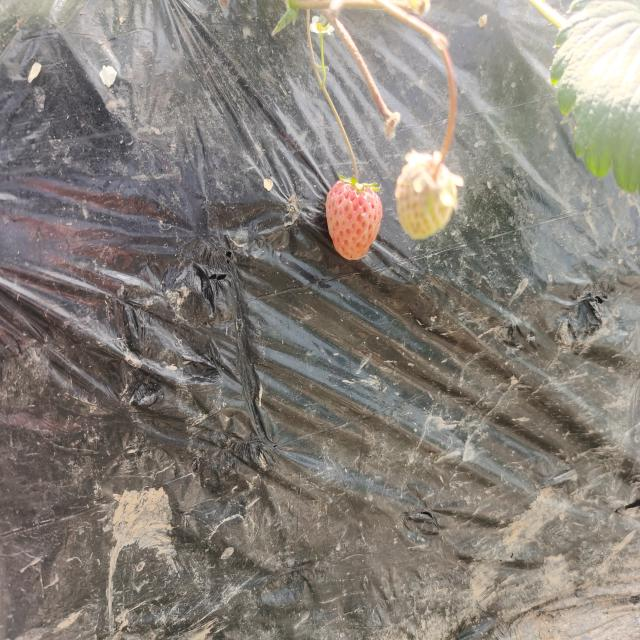stem: (345, 138, 359, 185)
strawberry: (395, 155, 457, 239), (326, 178, 383, 260)
